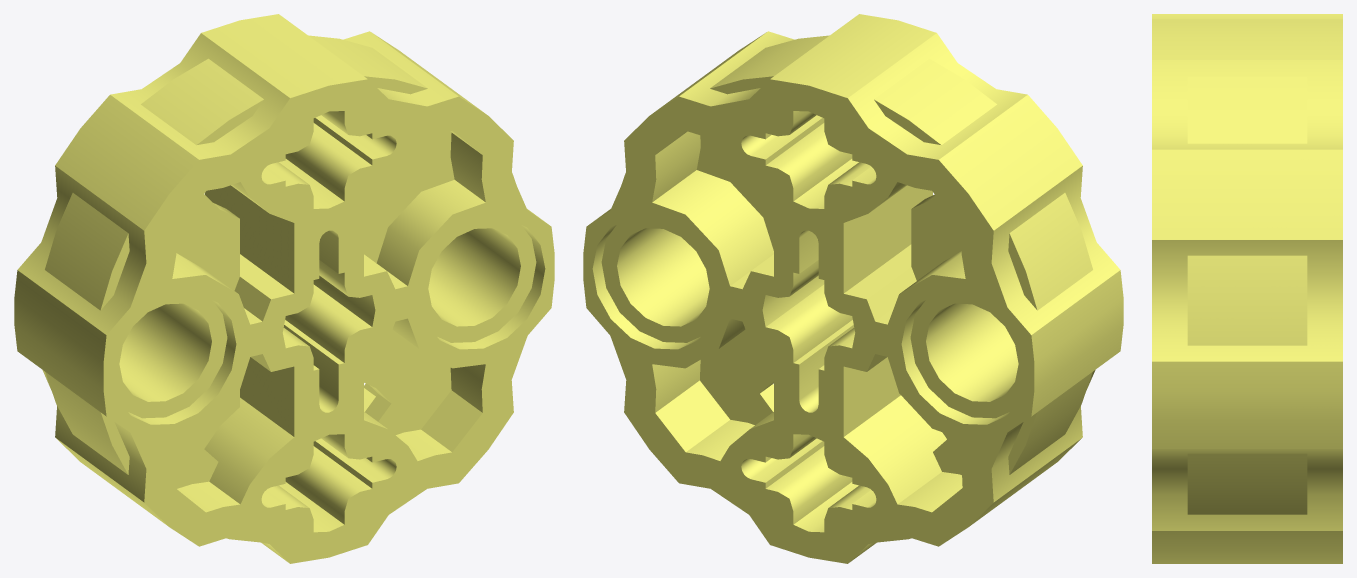
3 renders of one model, left to right at view 1: azimuth 30°, elevation 25°; view 2: azimuth 150°, elevation 25°; view 3: azimuth 270°, elevation 25°, orthographic. The views are drawn at different scales.
Parts seen in each view (by area): view 1: 98585.dat; view 2: 98585.dat; view 3: 98585.dat.
Boxes of the visible parts, x1,y1,x2,y2 form: 98585.dat: (14,14,554,563); 98585.dat: (583,14,1123,563); 98585.dat: (1152,14,1342,563).
Size of the model in its own units: 0.0234 by 0.0234 by 0.008.
